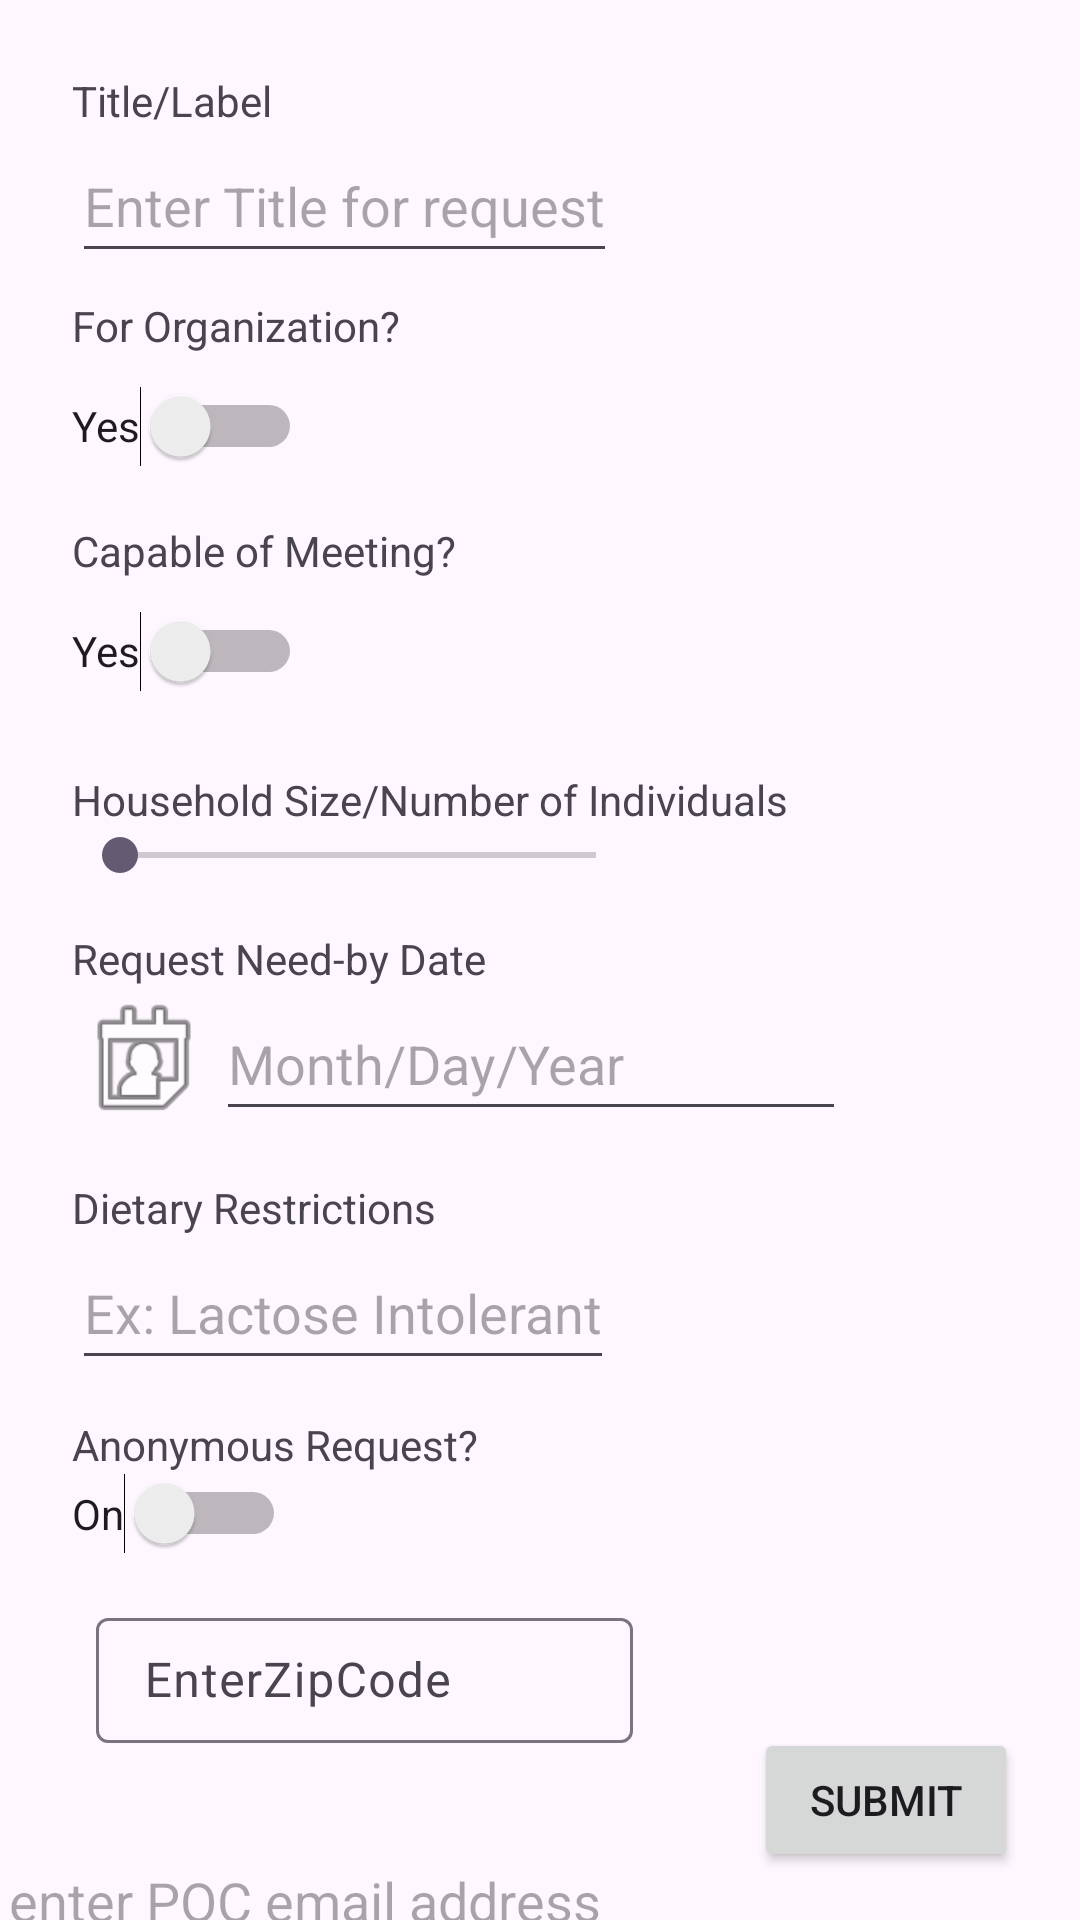

Where icons sit on this 1080 × 1920 app screen, as (x1, y1, x2, y2):
calendar: (97, 1005, 191, 1110)
